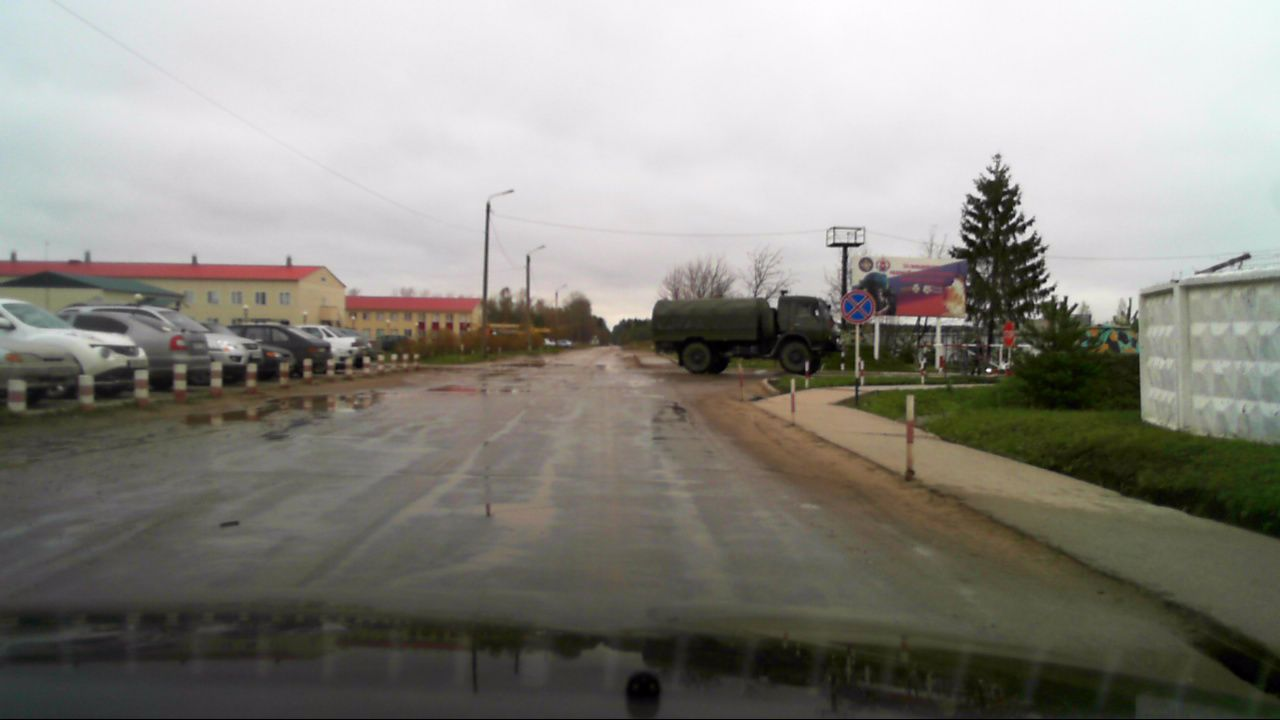No Parking: (840, 290, 876, 324)
